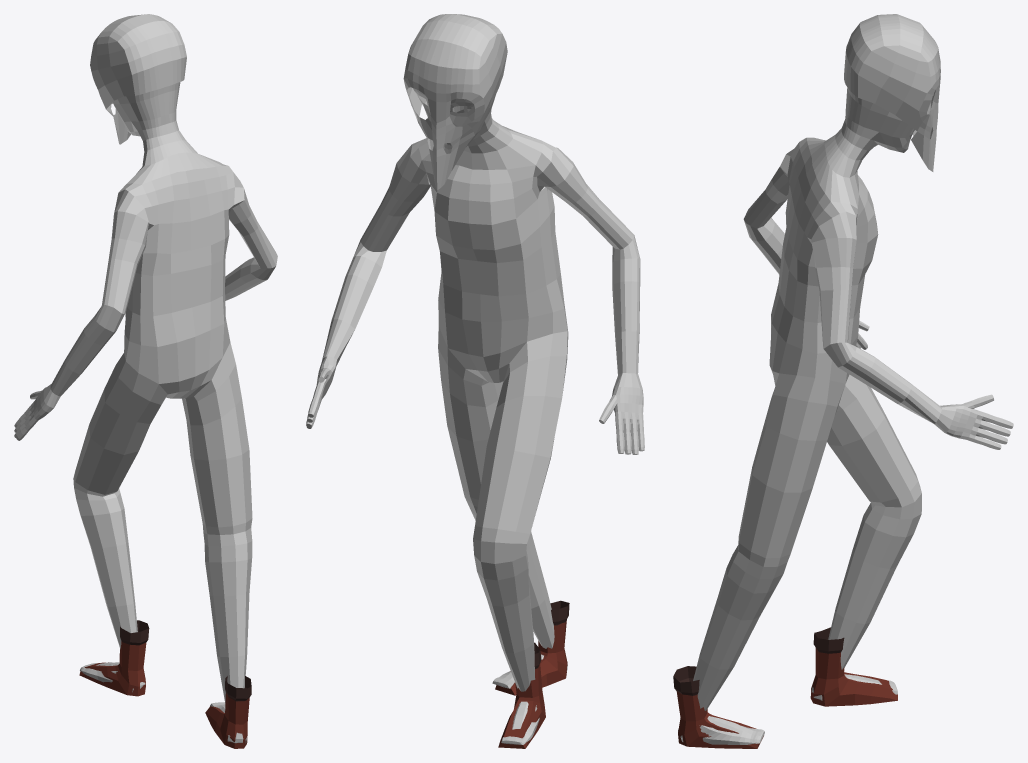
The model's file is marcha5_000034.obj.
The picture shows the model from 3 angles, left to right: view 1: azimuth 30°, elevation 25°; view 2: azimuth 150°, elevation 25°; view 3: azimuth 270°, elevation 25°; orthographic projection. The views are drawn at different scales.
Parts seen in each view (by area): view 1: Plane.002_Plane.001, Plane.004, Plane.003; view 2: Plane.002_Plane.001, Plane.003, Plane.004; view 3: Plane.002_Plane.001, Plane.004, Plane.003.
Boxes of the visible parts, x1=… form: Plane.002_Plane.001: x1=14, y1=14, x2=277, y2=743; Plane.004: x1=79, y1=620, x2=149, y2=696; Plane.003: x1=205, y1=676, x2=251, y2=748; Plane.002_Plane.001: x1=306, y1=14, x2=644, y2=744; Plane.003: x1=495, y1=600, x2=569, y2=695; Plane.004: x1=498, y1=642, x2=545, y2=748; Plane.002_Plane.001: x1=678, y1=14, x2=1013, y2=744; Plane.004: x1=810, y1=627, x2=897, y2=706; Plane.003: x1=673, y1=666, x2=763, y2=748.
Bounding box in the file's own units: 2.81 × 6.85 × 2.94.
